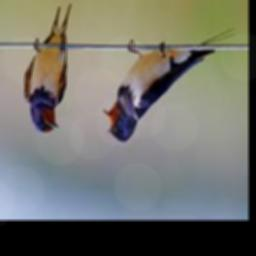Swallow: (100, 28, 236, 142), (24, 3, 70, 135)
